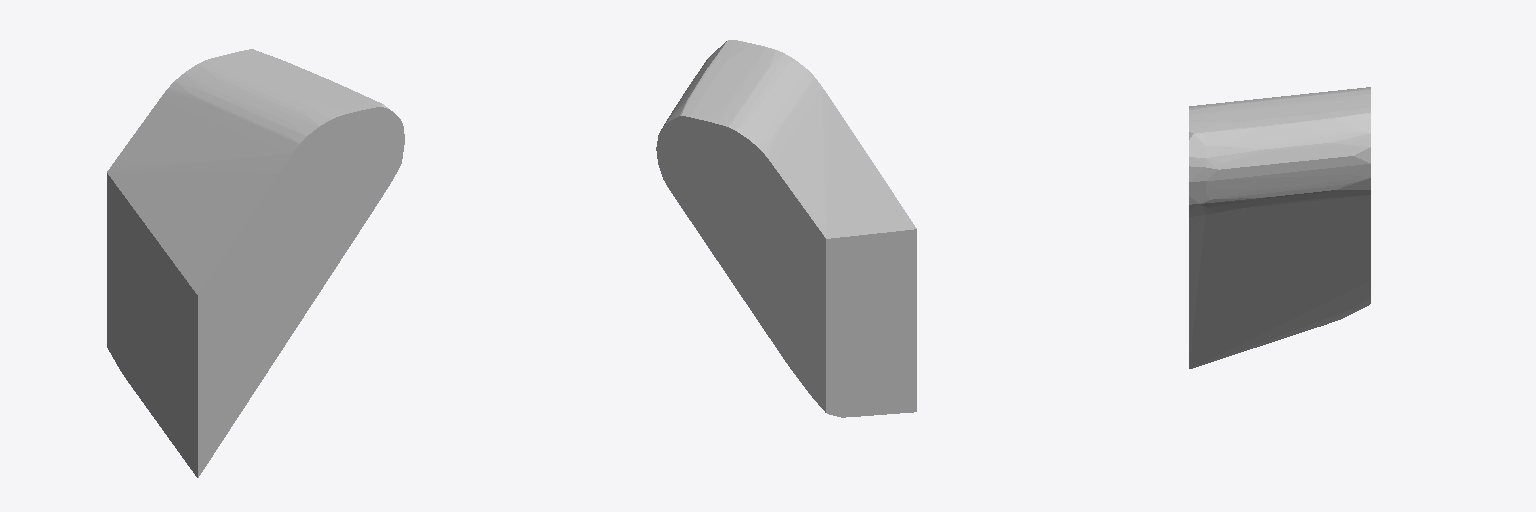
File: Bowl_21_collision_23.obj
3 views of the same model, side by side, from view 1: azimuth 30°, elevation 25°; view 2: azimuth 150°, elevation 25°; view 3: azimuth 270°, elevation 25° (orthographic).
Bounding box in the file's own units: 0.0347 × 0.0525 × 0.0264.